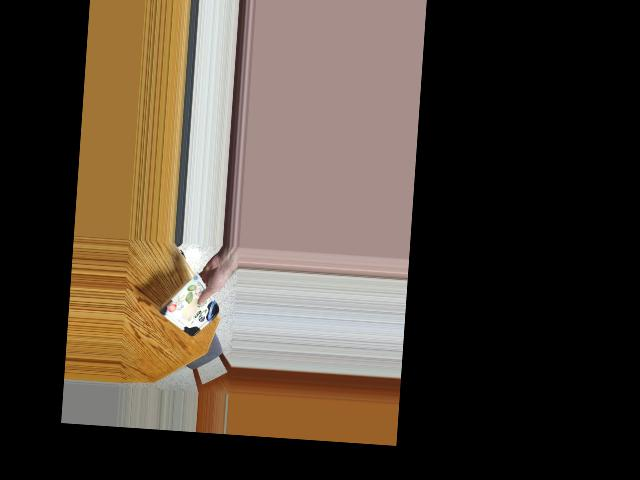cheese: (166, 277, 213, 336)
